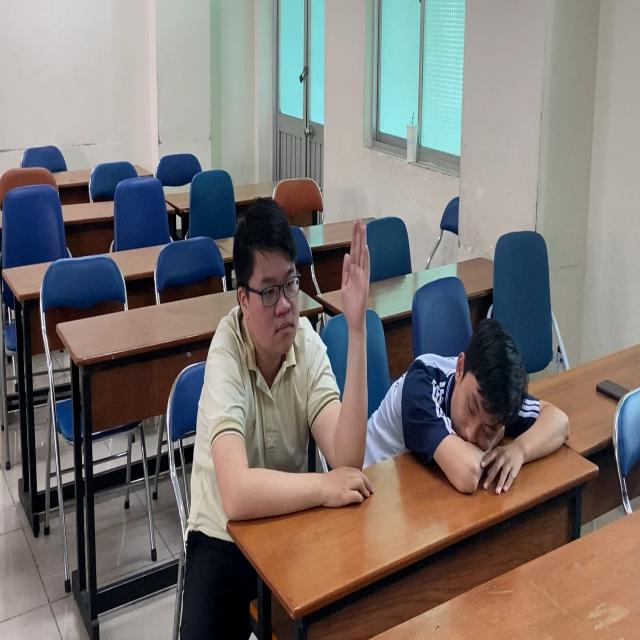raise_hand: (208, 208, 376, 523)
sleep: (368, 302, 585, 511)
